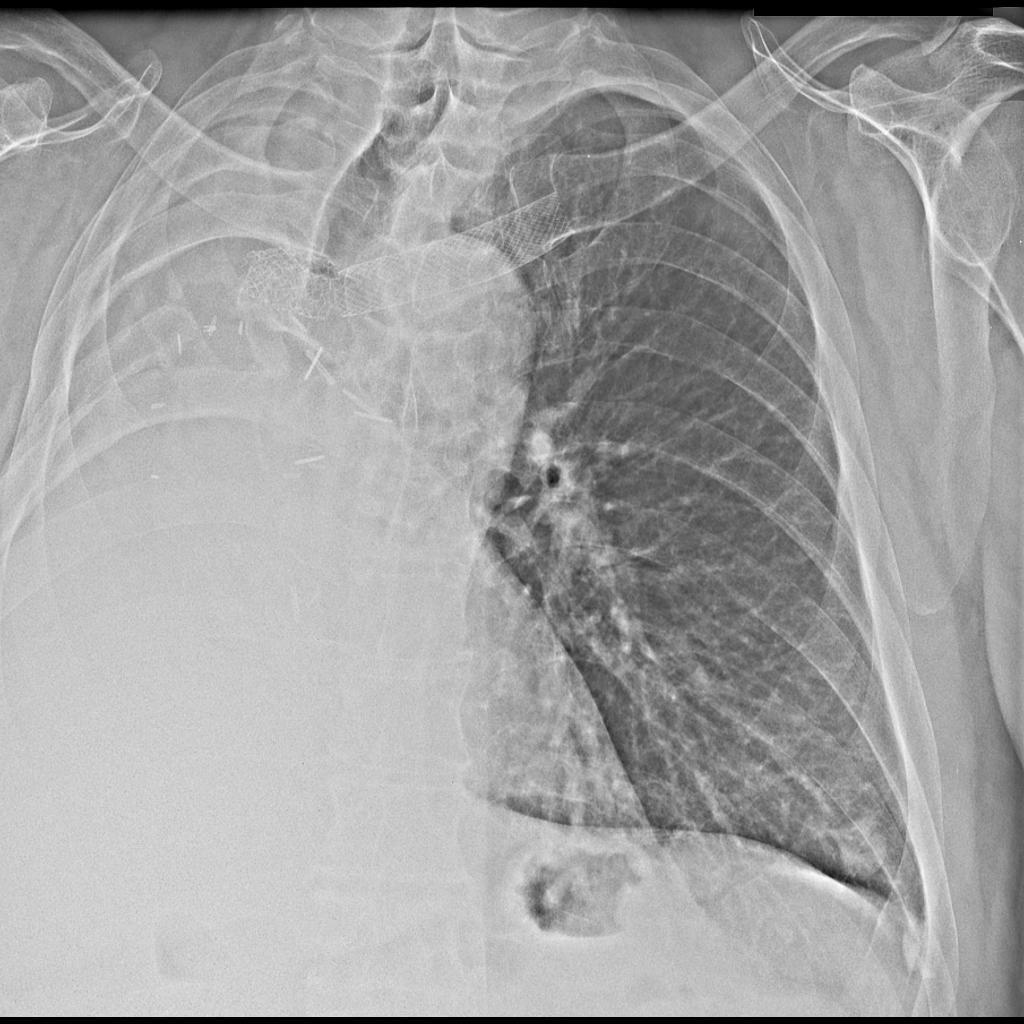Nodule: (831, 816, 903, 886)
